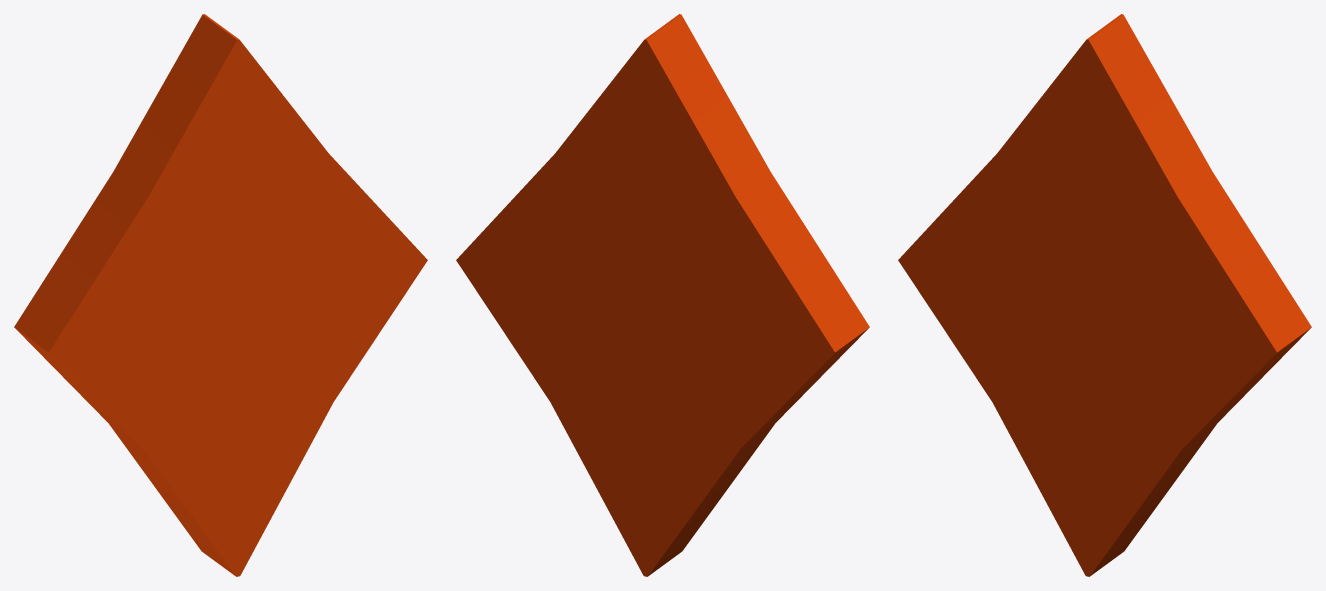
Rendered from Diamonds.fbx.
The picture shows the model from 3 angles, left to right: view 1: azimuth 30°, elevation 25°; view 2: azimuth 150°, elevation 25°; view 3: azimuth 330°, elevation 25°; orthographic projection.
Visible parts, largest first — view 1: Diamonds; view 2: Diamonds; view 3: Diamonds.
Boxes of the visible parts, x1=… form: Diamonds: x1=14, y1=14, x2=427, y2=576; Diamonds: x1=456, y1=14, x2=869, y2=576; Diamonds: x1=898, y1=14, x2=1311, y2=576.
Bounding box in the file's own units: 0.2294 × 0.3103 × 0.0365.
